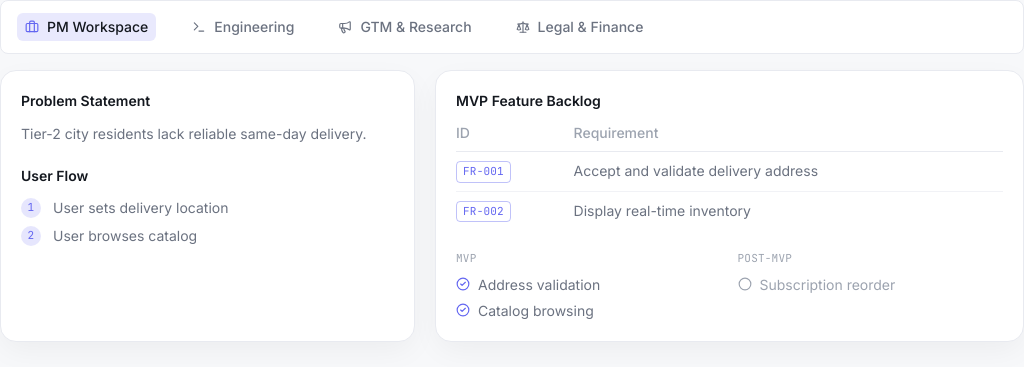
Test case: WorkspaceTabs switching › switches back to PM content after visiting another tab
The image size is (1024, 367).
Click the tab "Engineering" at (243,27), box [172,5,314,49]
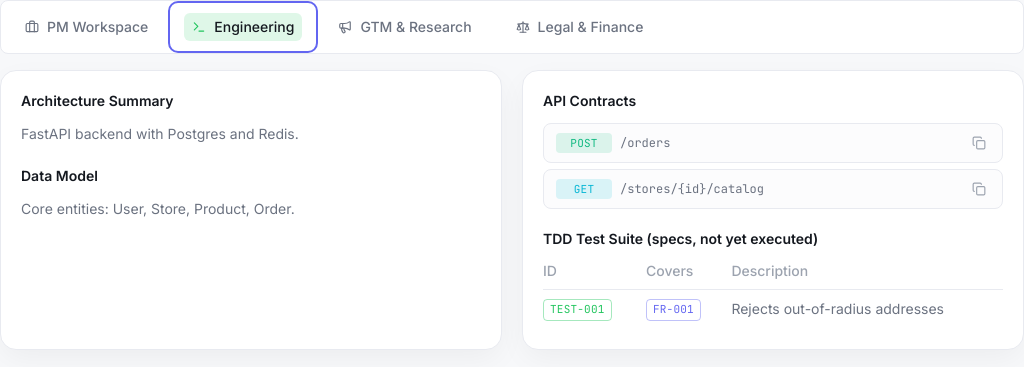
Click the tab "PM Workspace" at (87,27), box [5,5,168,49]
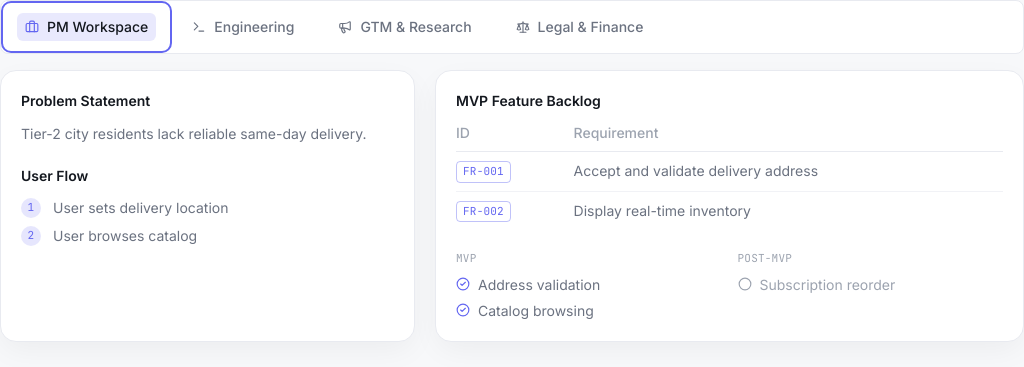
Result: the heading "Problem Statement" is shown at [21,92,150,109]
